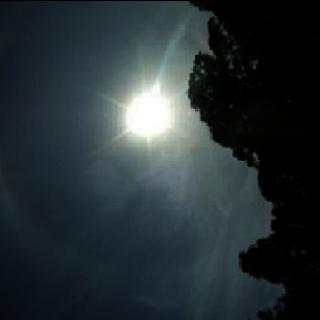Cirrostratus: (1, 0, 222, 320)
